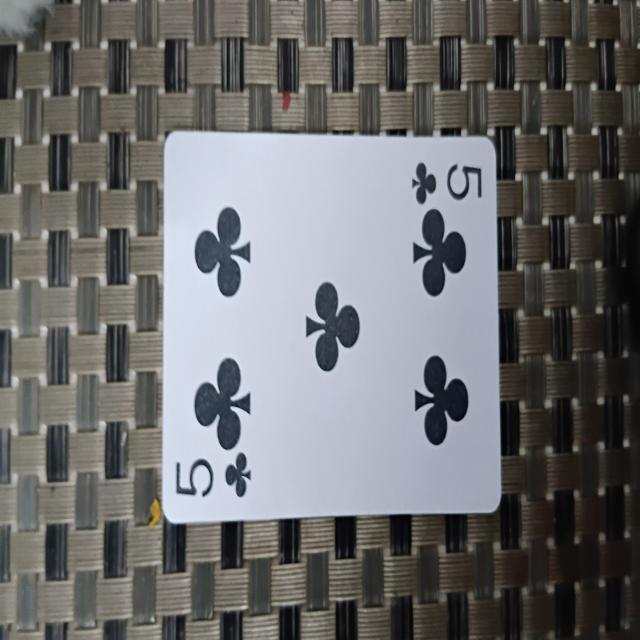5C: (158, 133, 504, 527)
